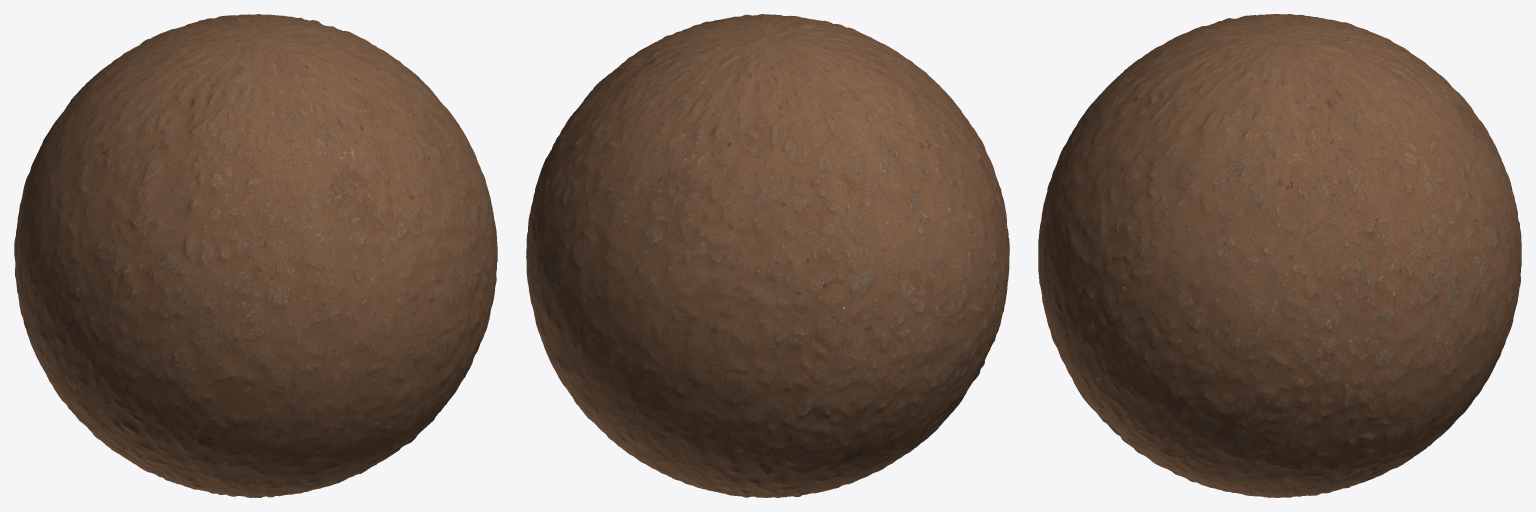
File: gravel_road_1k.gltf
The picture shows the model from 3 angles, left to right: view 1: azimuth 30°, elevation 25°; view 2: azimuth 150°, elevation 25°; view 3: azimuth 270°, elevation 25°; orthographic projection.
Parts seen in each view (by area): view 1: sphere_gltf; view 2: sphere_gltf; view 3: sphere_gltf.
Part boxes in pixels (<box>): sphere_gltf: <box>14,14,497,497</box>; sphere_gltf: <box>526,14,1009,497</box>; sphere_gltf: <box>1038,14,1521,497</box>.
Bounding box in the file's own units: 2 × 2 × 2.
1 material, 1 textured.
